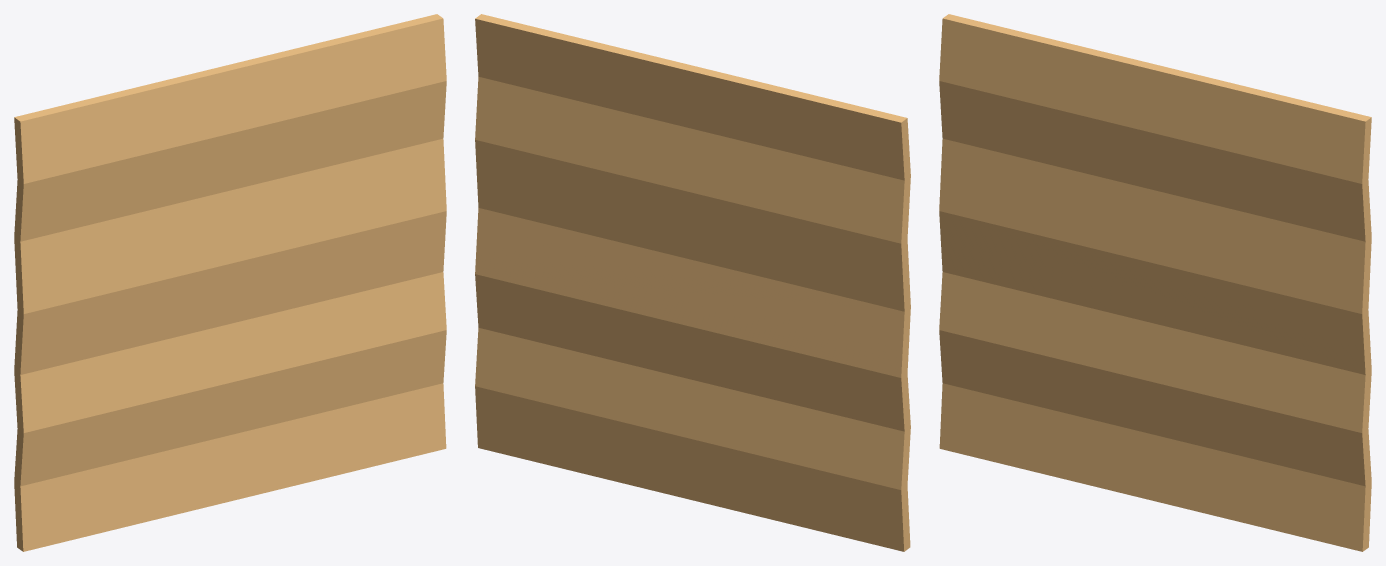
The model's file is Garage_door.fbx.
3 views of the same model, side by side, from view 1: azimuth 30°, elevation 25°; view 2: azimuth 150°, elevation 25°; view 3: azimuth 330°, elevation 25° (orthographic).
Visible parts, largest first — view 1: GarageDoor; view 2: GarageDoor; view 3: GarageDoor.
Part boxes in pixels (x1,y1,x2,y2): GarageDoor: [14, 14, 446, 551]; GarageDoor: [475, 14, 910, 551]; GarageDoor: [939, 14, 1371, 551].
Bounding box in the file's own units: 3.91 × 3.78 × 0.1537.
